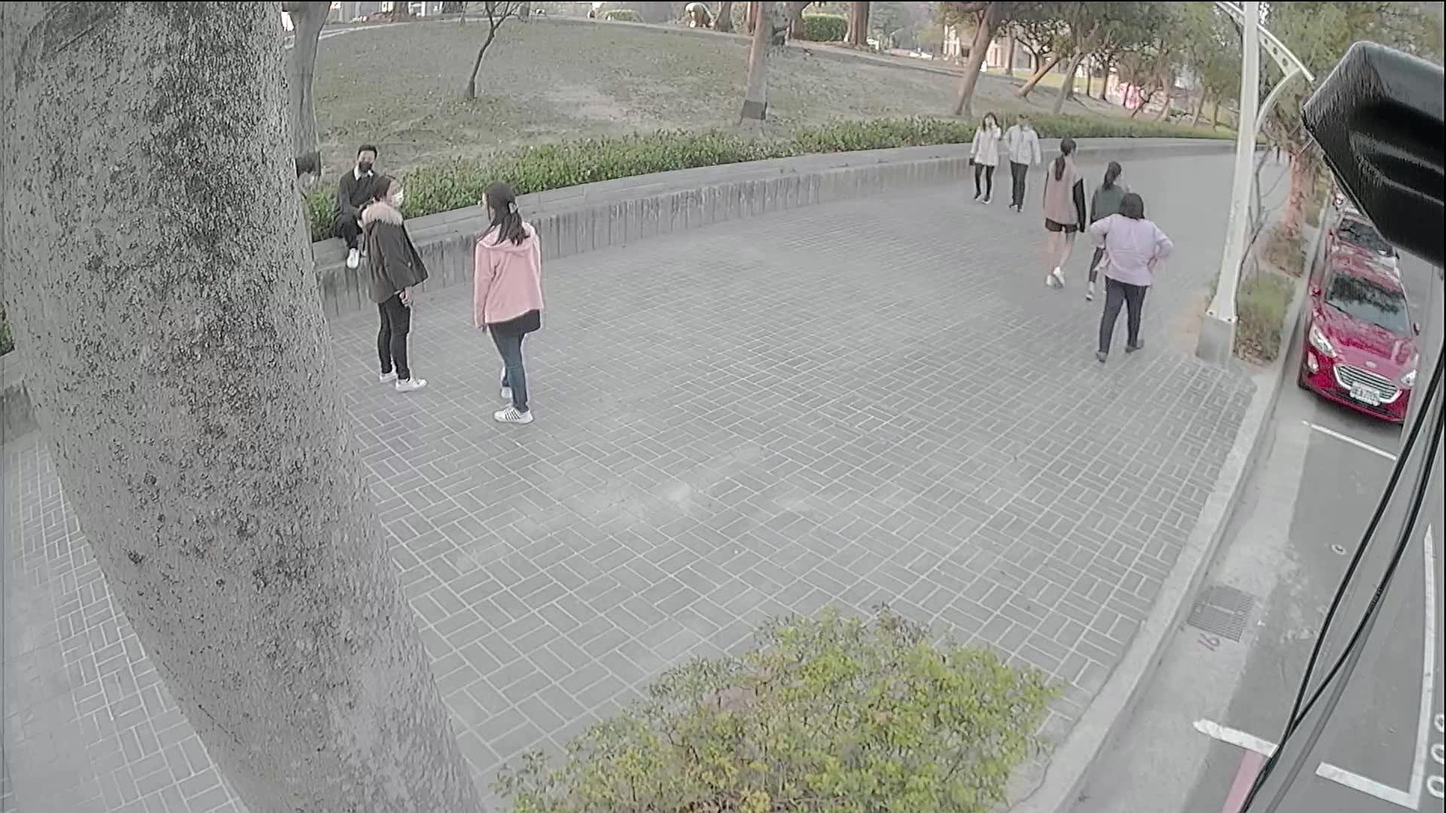person: (472, 181, 548, 419), (1088, 190, 1170, 353), (365, 175, 423, 390), (1042, 140, 1078, 288), (340, 145, 381, 264), (1008, 112, 1038, 205), (1091, 160, 1133, 226), (969, 114, 1000, 202), (291, 149, 316, 237)
